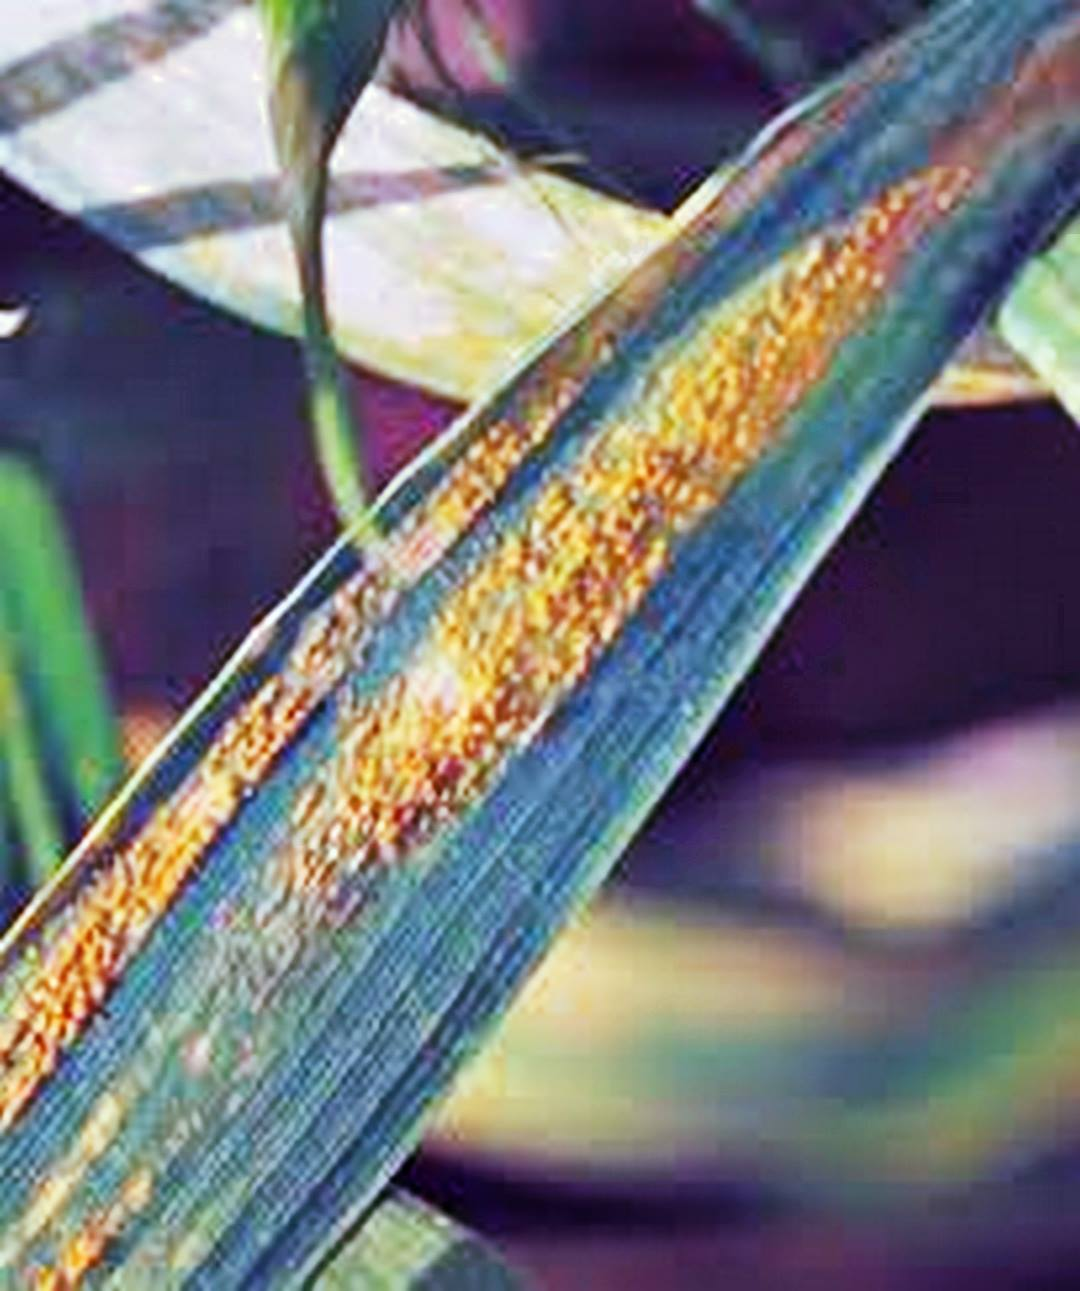Leaf Rust: (55, 197, 947, 1018)
